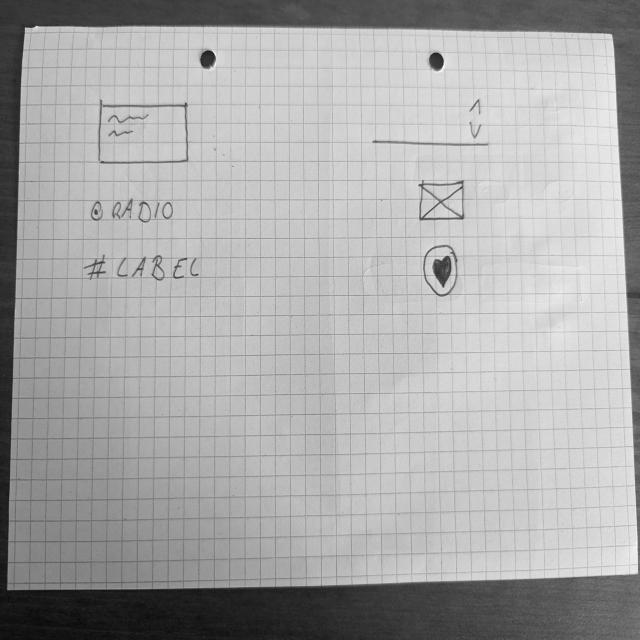icon-button: (420, 242, 460, 302)
image: (417, 177, 469, 223)
label: (82, 254, 202, 284)
number-input: (370, 95, 492, 149)
radio: (88, 196, 175, 226)
textarea: (97, 98, 191, 168)
